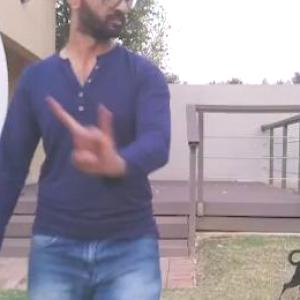takeoff-hand: (39, 90, 120, 181)
